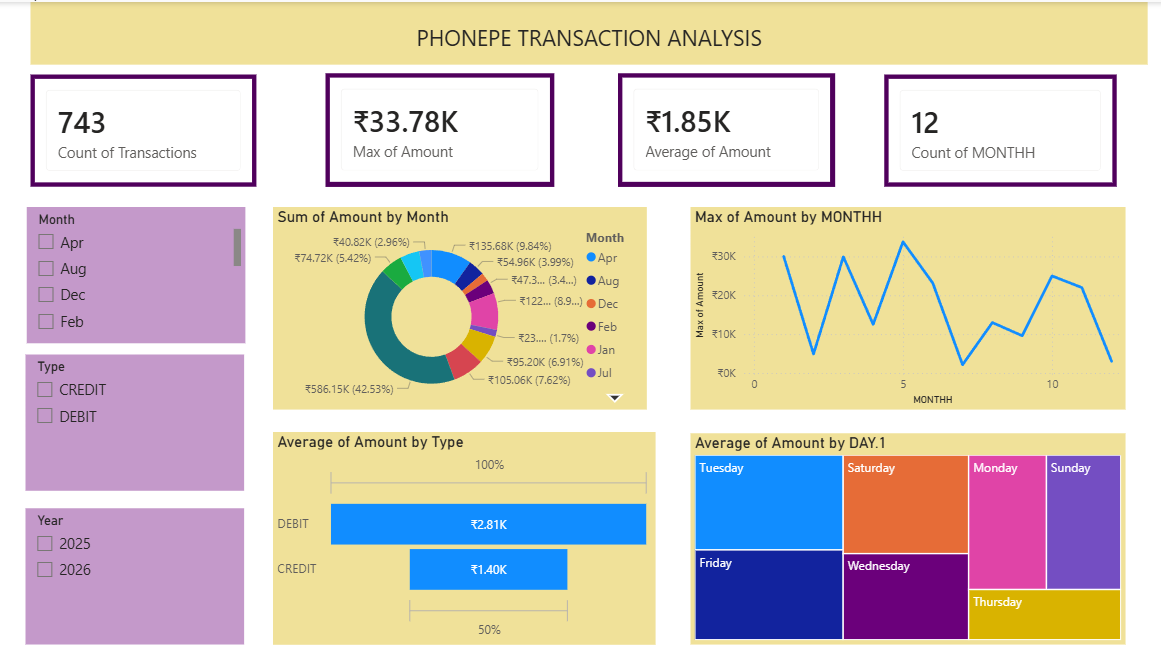

The page's visual inventory and layout, read from the dashboard file:
{"tool":"powerbi","page":{"name":"phonepe_dashboard","canvas":[1280,720],"ordinal":0},"visuals":[{"type":"textbox","box":[35.7,0,1226.8,68.6],"z":0},{"type":"cardVisual","fields":{"Data":["Count(Transactions.Transactions)"]},"box":[35.7,79.6,248.4,123.5],"z":1000},{"type":"cardVisual","fields":{"Data":["Max(Transactions.Amount)"]},"box":[359.5,78.2,251.1,124.9],"z":2000},{"type":"cardVisual","fields":{"Data":["Avg(Transactions.Amount)"]},"box":[680.6,78.2,238.8,124.9],"z":3000},{"type":"cardVisual","fields":{"Data":["Count(Transactions.MONTHH)"]},"box":[972.9,79.6,255.2,123.5],"z":4000},{"type":"slicer","fields":{"Values":["Transactions.Month"]},"box":[31.6,225,240.1,149.6],"z":5000},{"type":"slicer","fields":{"Values":["Transactions.Type"]},"box":[30.2,387,240.1,149.6],"z":6000},{"type":"slicer","fields":{"Values":["Transactions.Year"]},"box":[30.2,555.7,240.1,149.6],"z":7000},{"type":"donutChart","fields":{"Y":["Sum(Transactions.Amount)"],"Series":["Transactions.Month"]},"box":[301.9,225,410.3,222.3],"z":8000},{"type":"lineChart","fields":{"Category":["Transactions.MONTHH"],"Y":["Max(Transactions.Amount)"]},"box":[760.2,225,477.5,222.3],"z":9000},{"type":"funnel","fields":{"Y":["Avg(Transactions.Amount)"],"Category":["Transactions.Type"]},"box":[301.9,472,419.9,233.3],"z":10000},{"type":"treemap","fields":{"Values":["Avg(Transactions.Amount)"],"Group":["Transactions.DAY.1"]},"box":[760.2,473.4,477.5,231.9],"z":11000}]}

Visuals, with their boxes in screenshot pixels (x1, y1, x2, y2), scaled from the page's 1280x720 canvas onto the 1161x656 screenshot:
textbox: bbox(32, 0, 1145, 63)
cardVisual - Count(Transactions.Transactions): bbox(32, 73, 258, 185)
cardVisual - Max(Transactions.Amount): bbox(326, 71, 554, 185)
cardVisual - Avg(Transactions.Amount): bbox(617, 71, 834, 185)
cardVisual - Count(Transactions.MONTHH): bbox(882, 73, 1114, 185)
slicer - Transactions.Month: bbox(29, 205, 246, 341)
slicer - Transactions.Type: bbox(27, 353, 245, 489)
slicer - Transactions.Year: bbox(27, 506, 245, 643)
donutChart - Sum(Transactions.Amount) x Transactions.Month: bbox(274, 205, 646, 408)
lineChart - Transactions.MONTHH x Max(Transactions.Amount): bbox(690, 205, 1123, 408)
funnel - Avg(Transactions.Amount) x Transactions.Type: bbox(274, 430, 655, 643)
treemap - Avg(Transactions.Amount) x Transactions.DAY.1: bbox(690, 431, 1123, 643)
